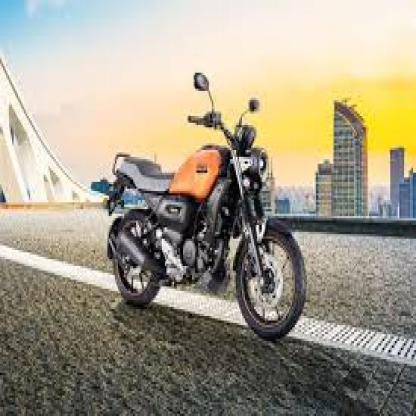Motorcycle: (96, 67, 310, 346)
